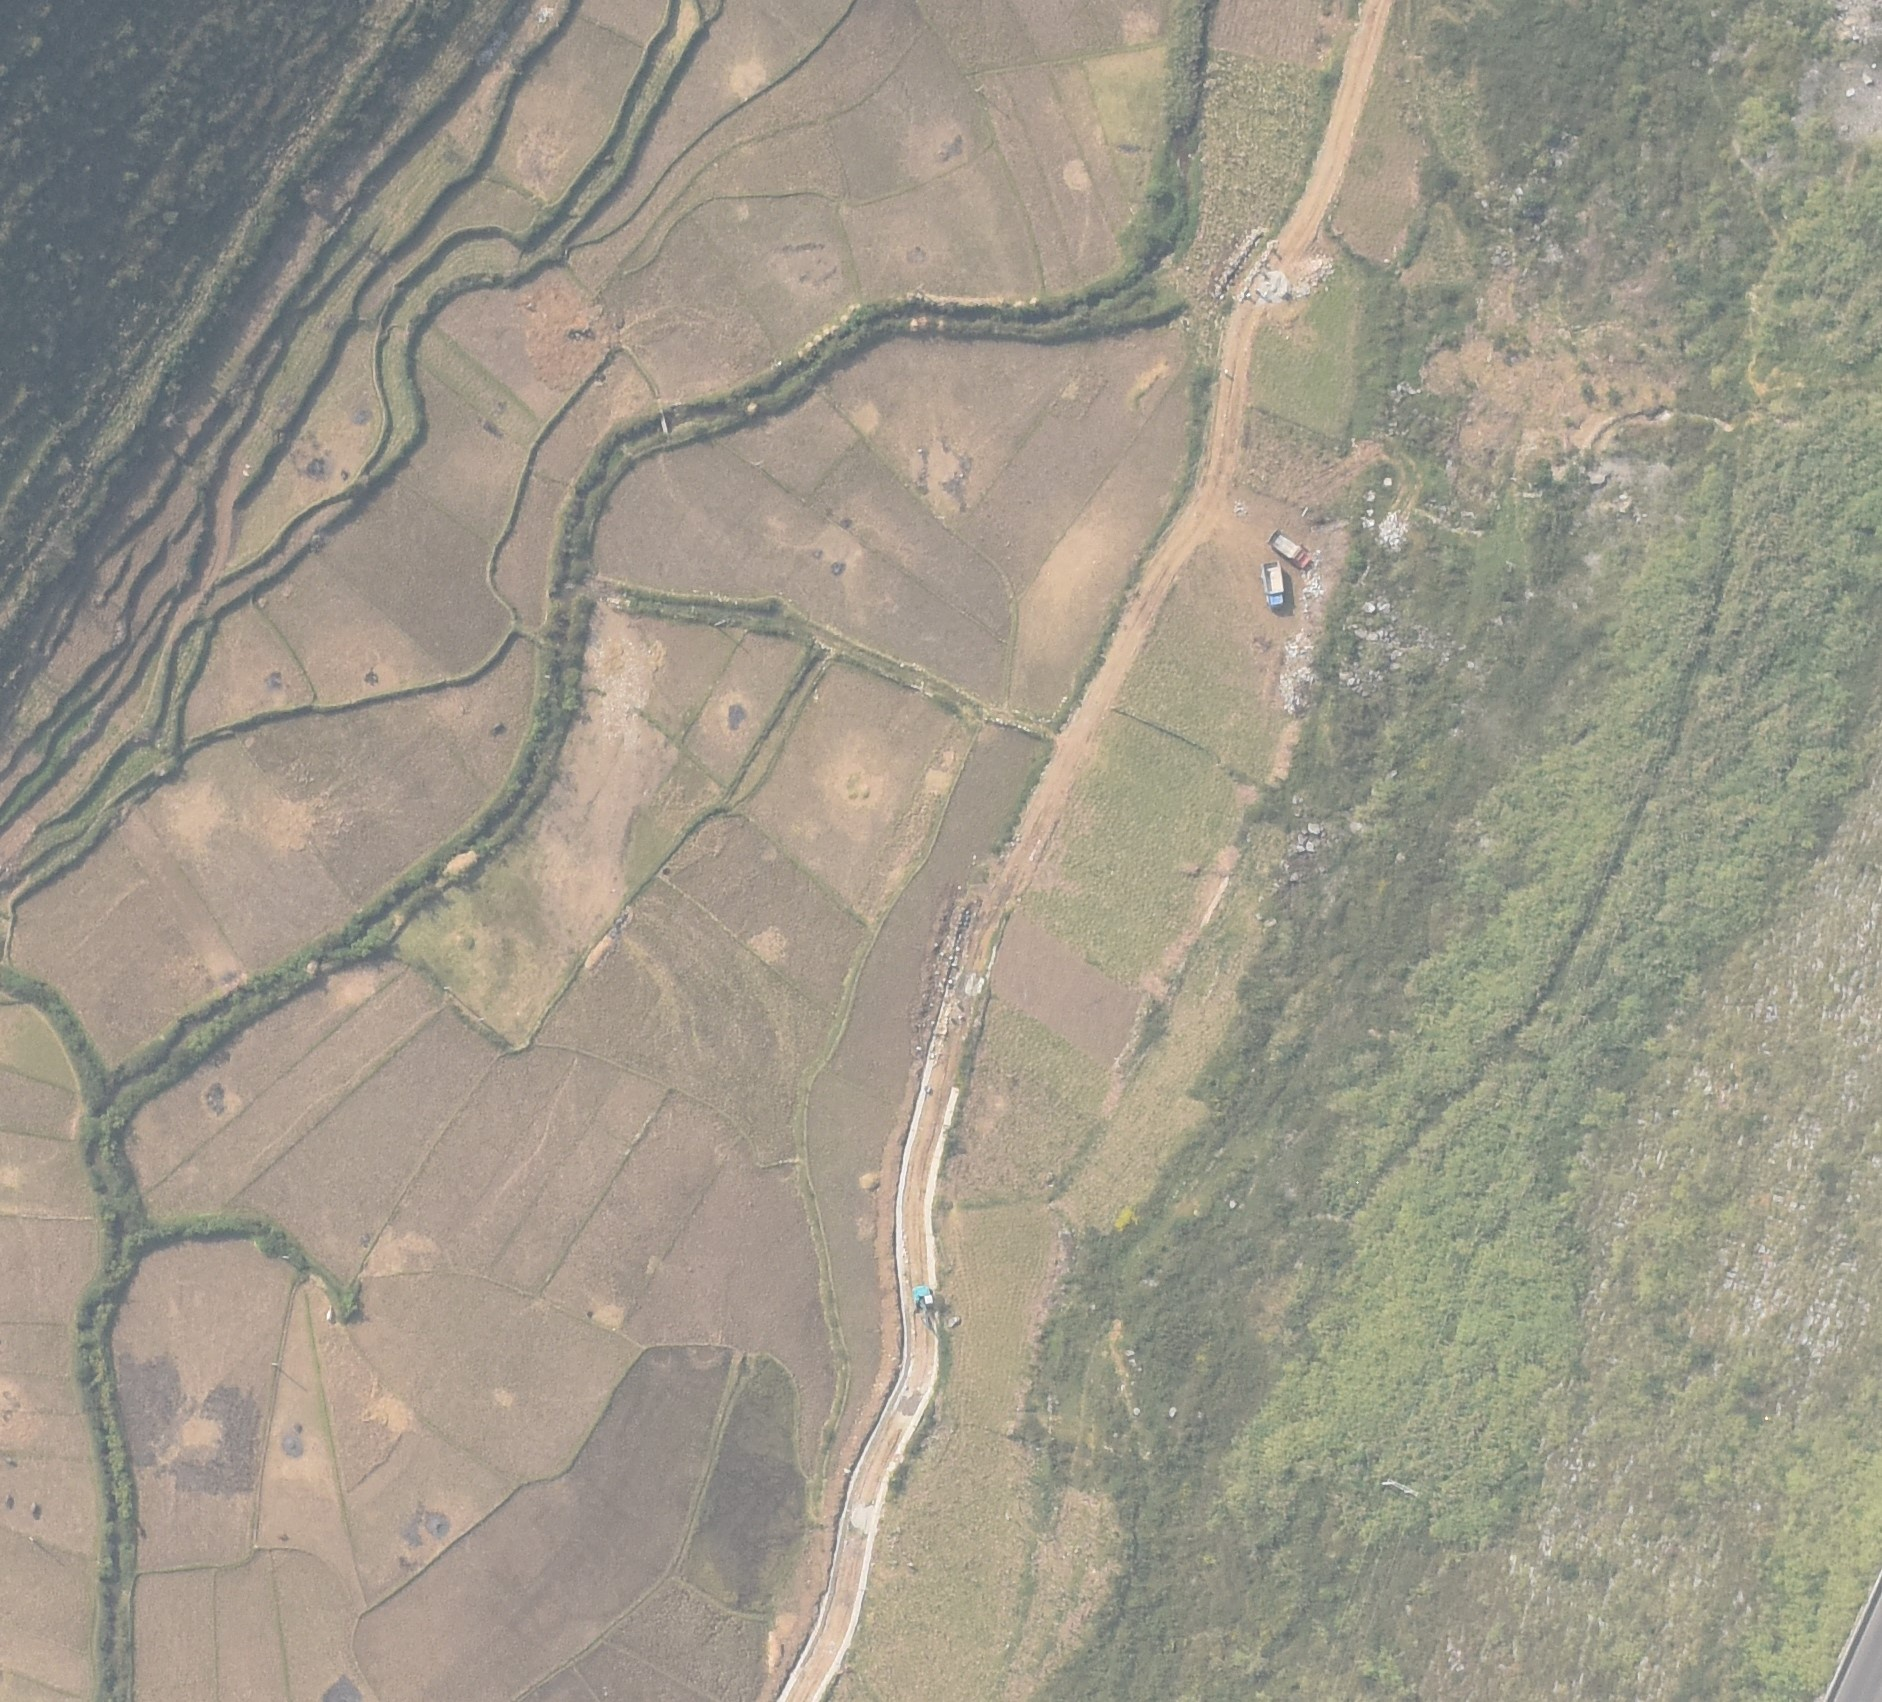prefabricated-house: (911, 1286, 933, 1307)
vehicle: (1267, 528, 1311, 566), (1262, 561, 1284, 607)
